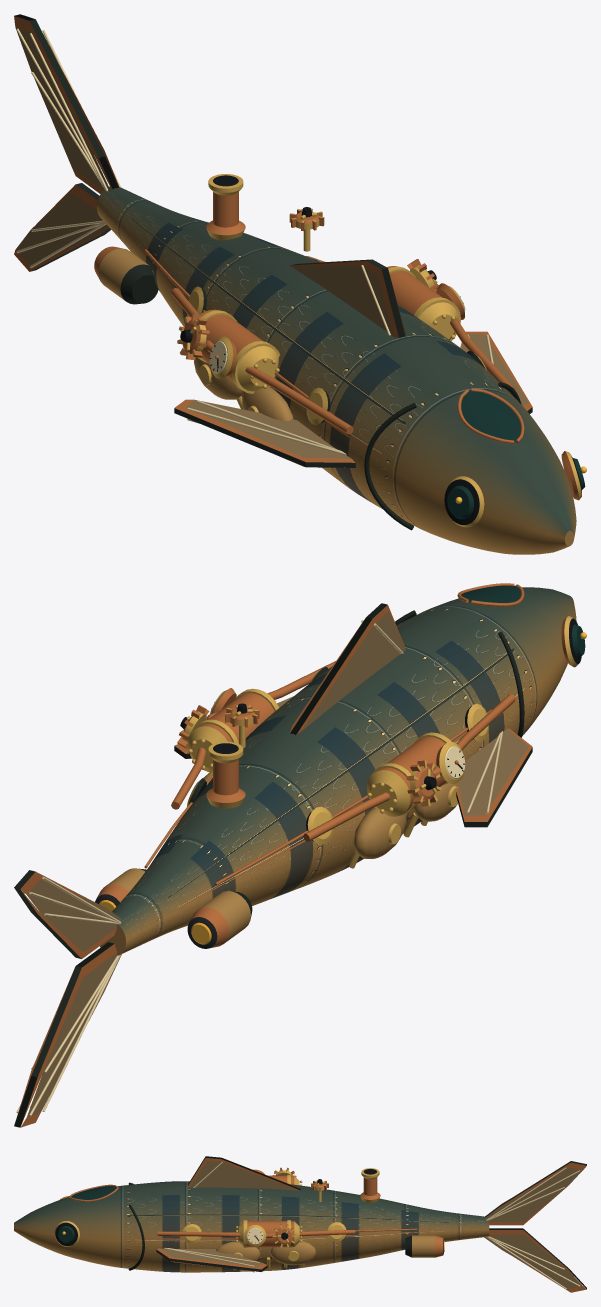
3 renders of one model, top to bottom at view 1: azimuth 30°, elevation 25°; view 2: azimuth 150°, elevation 25°; view 3: azimuth 270°, elevation 25°, orthographic. The views are drawn at different scales.
Parts seen in each view (by area): view 1: pilotfish_hull; view 2: pilotfish_hull; view 3: pilotfish_hull.
Part boxes in pixels (<box>): pilotfish_hull: <box>14,14,586,554</box>; pilotfish_hull: <box>14,583,586,1127</box>; pilotfish_hull: <box>14,1156,586,1292</box>.
Size of the model in its own units: 5.24 by 4.16 by 16.
1 material, 1 textured.
